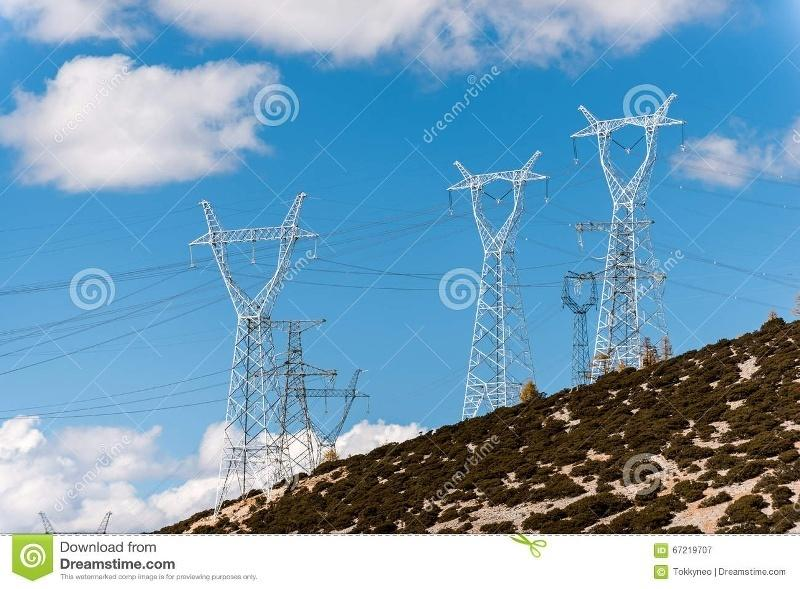power_tower: (198, 171, 327, 485), (424, 140, 532, 405), (559, 86, 653, 361)
